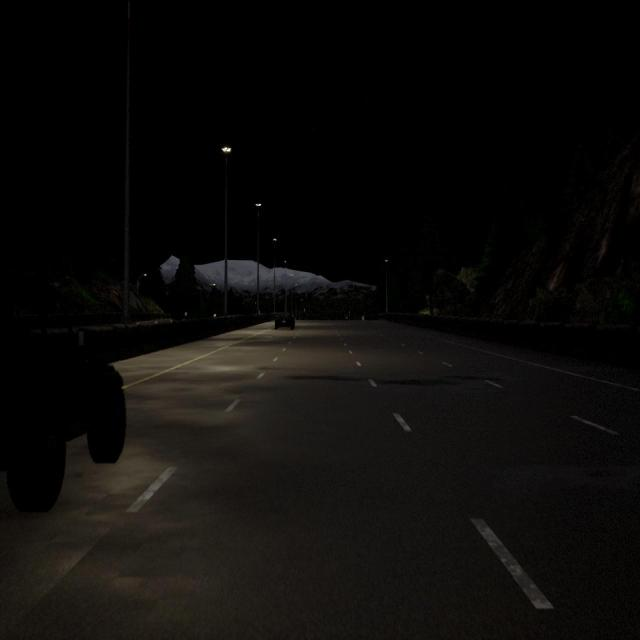Vehicle: (0, 341, 126, 511), (274, 312, 295, 330)
